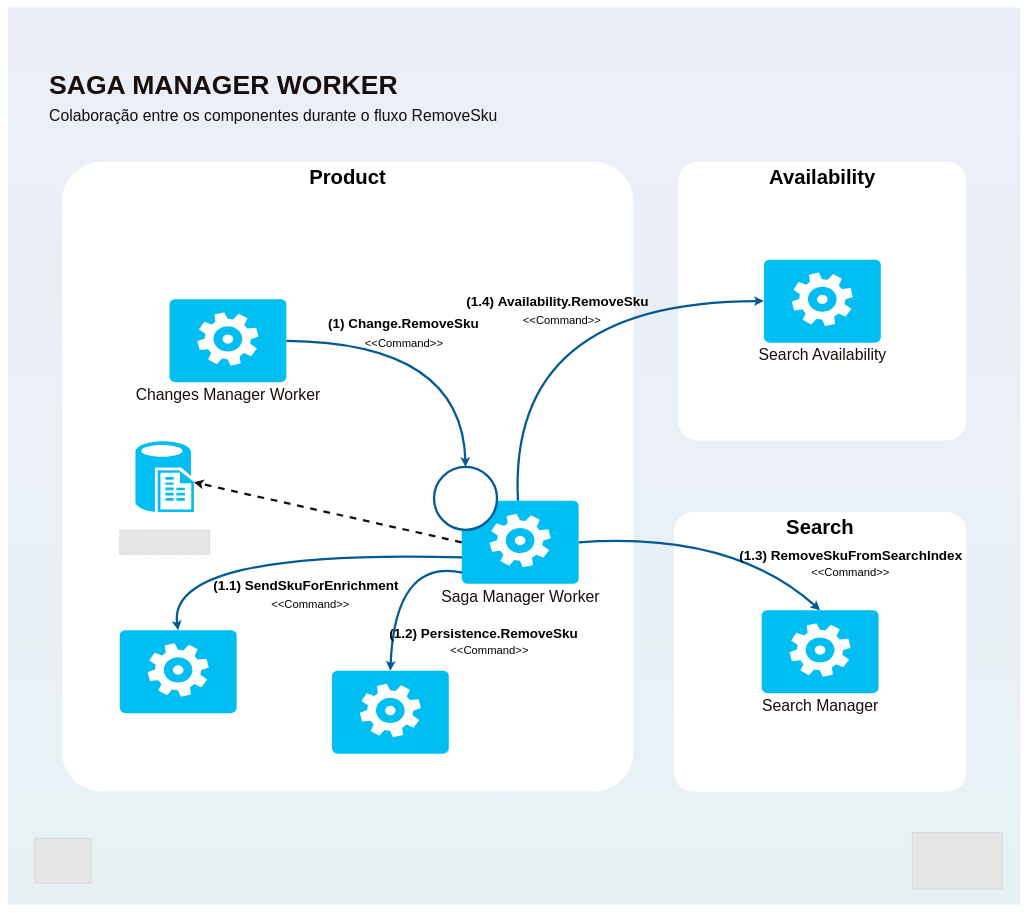
The diagram is 1028 pixels wide and 913 high, and some of its shapes have lost their labels. Grey dashed boxes stand in for pictures. The box of each missing label's shape, as (x1, y1, x2, y2) in pixels:
Enrichment Omnilogic Worker: (119, 630, 236, 713)
Initially: (433, 466, 498, 531)
Product Persistence Worker: (332, 670, 449, 754)
products transient: (135, 441, 194, 512)
